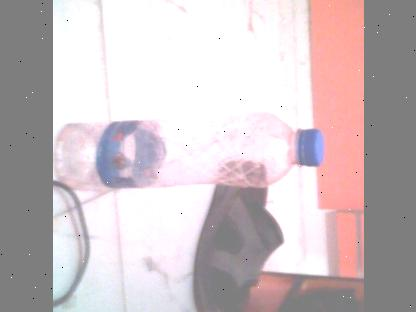Plastic Bottle: (52, 98, 331, 214)
